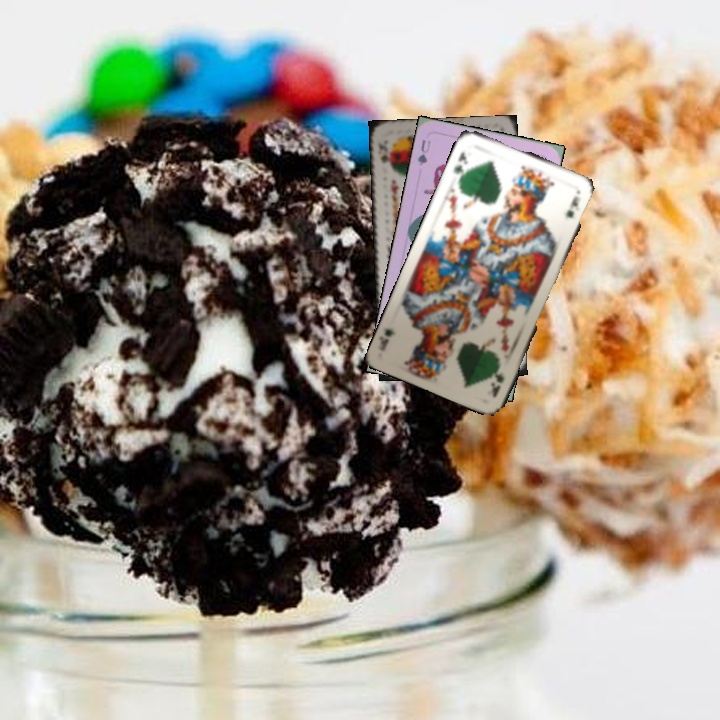GK: (487, 360, 507, 400), (449, 147, 471, 182)
GU: (413, 136, 433, 168)
SK: (373, 143, 393, 171)
